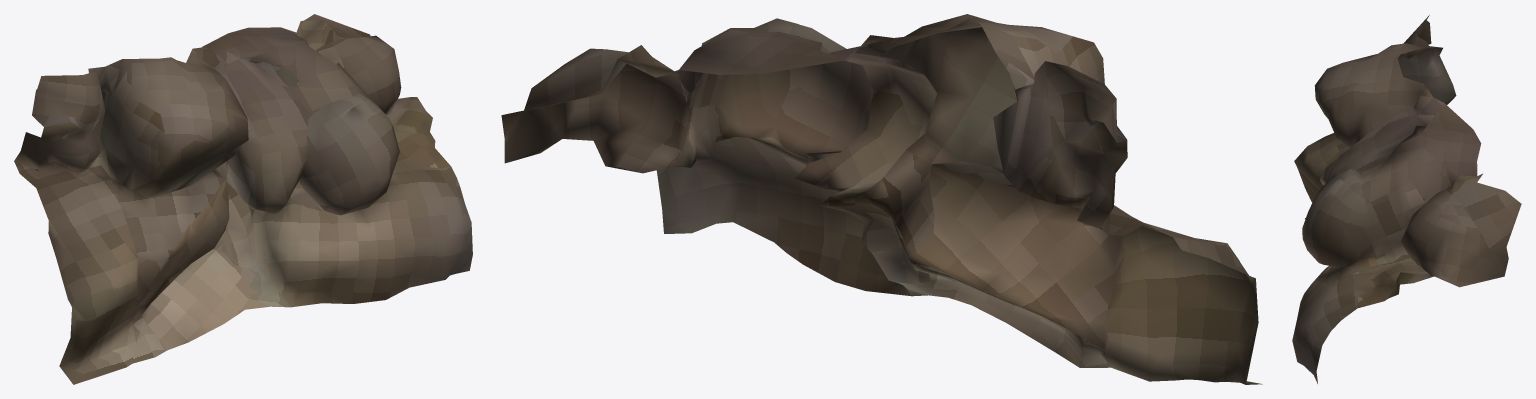
The model's file is rock_spire_far.glb.
The picture shows the model from 3 angles, left to right: view 1: azimuth 30°, elevation 25°; view 2: azimuth 150°, elevation 25°; view 3: azimuth 270°, elevation 25°; orthographic projection. The views are drawn at different scales.
Visible parts, largest first — view 1: rock_spire_far; view 2: rock_spire_far; view 3: rock_spire_far.
Part boxes in pixels (left/top/right/bottom): rock_spire_far: left=14, top=14, right=472, bottom=384; rock_spire_far: left=501, top=14, right=1262, bottom=384; rock_spire_far: left=1292, top=15, right=1521, bottom=383.
Size of the model in its own units: 8.27 by 4.89 by 4.44.
Materials: 1 (1 with a texture image).
